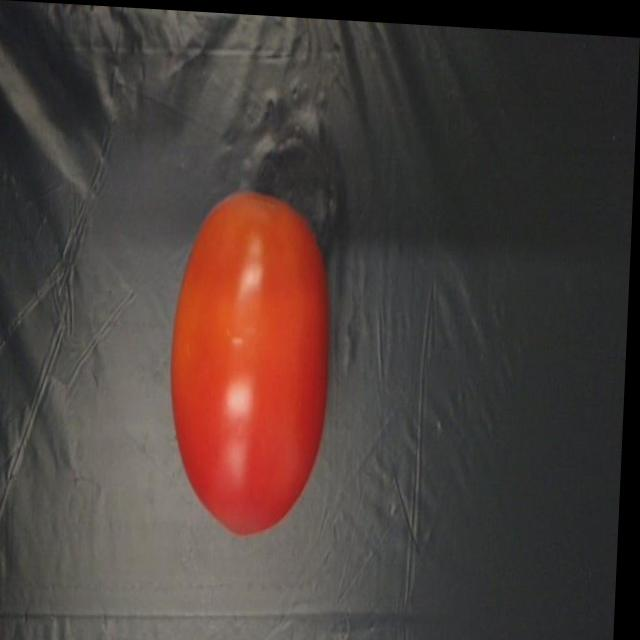kirmizi: (129, 167, 396, 567)
